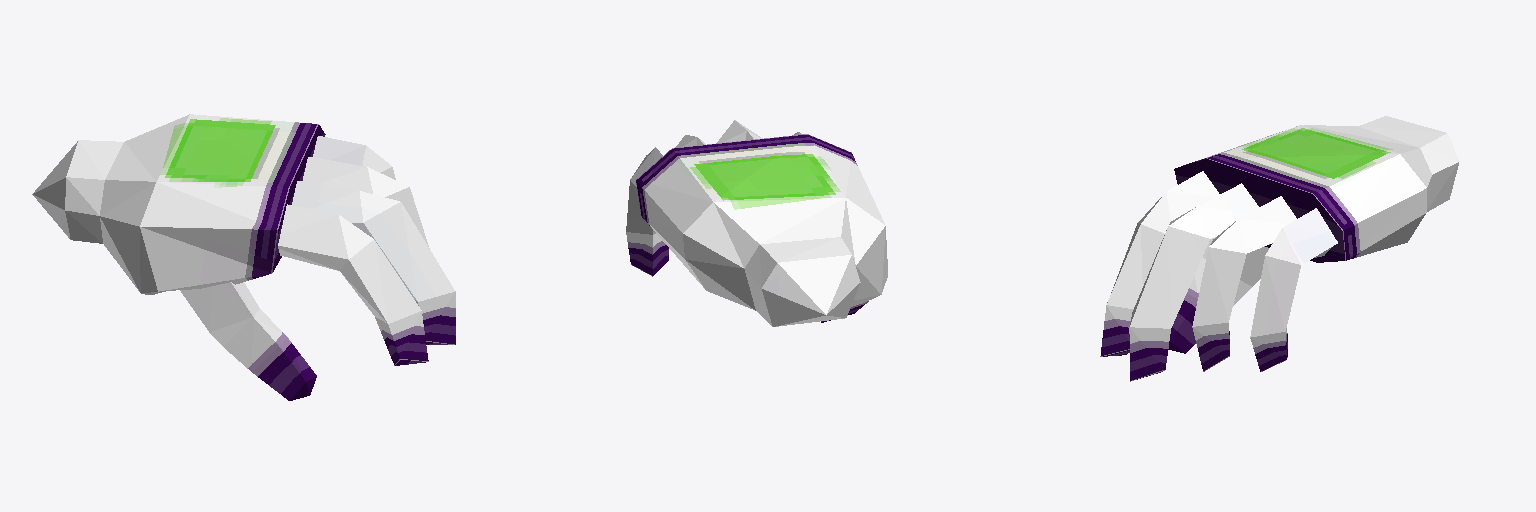
3 renders of one model, left to right at view 1: azimuth 30°, elevation 25°; view 2: azimuth 150°, elevation 25°; view 3: azimuth 270°, elevation 25°, orthographic.
Parts seen in each view (by area): view 1: buzzlightyLeftHand_buzzlighty.000; view 2: buzzlightyLeftHand_buzzlighty.000; view 3: buzzlightyLeftHand_buzzlighty.000.
Part boxes in pixels (bbox=[...]): buzzlightyLeftHand_buzzlighty.000: bbox=[32, 114, 455, 400]; buzzlightyLeftHand_buzzlighty.000: bbox=[626, 120, 887, 326]; buzzlightyLeftHand_buzzlighty.000: bbox=[1100, 116, 1459, 381].
Bounding box in the file's own units: 0.1068 × 0.0724 × 0.1173.
1 materials, 1 textured.